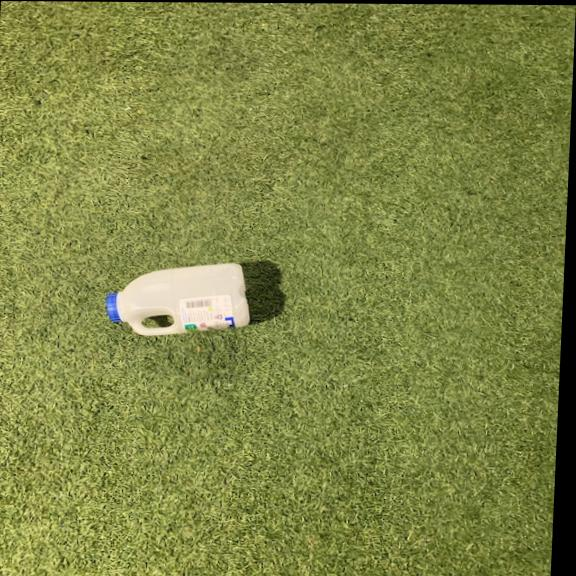Plastik: (102, 259, 253, 336)
